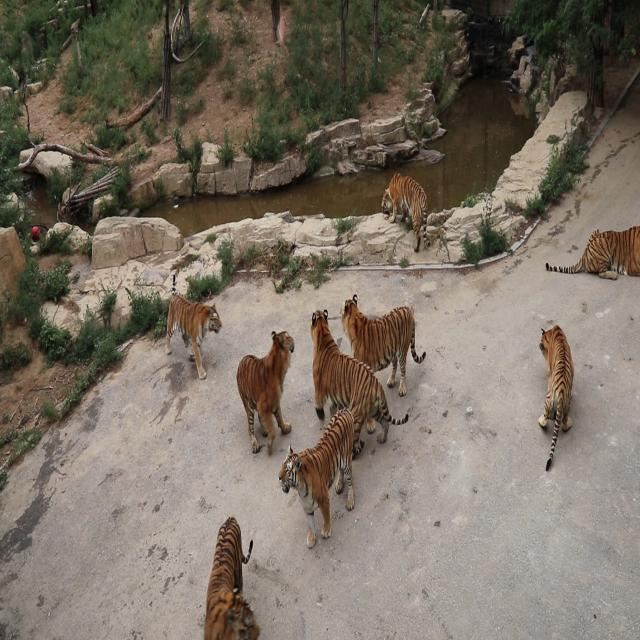Tiger: (308, 308, 409, 455), (278, 406, 357, 553), (341, 282, 432, 400), (232, 318, 299, 458), (164, 266, 225, 393), (199, 512, 259, 639), (379, 156, 438, 265), (533, 321, 574, 472), (544, 224, 640, 282)
